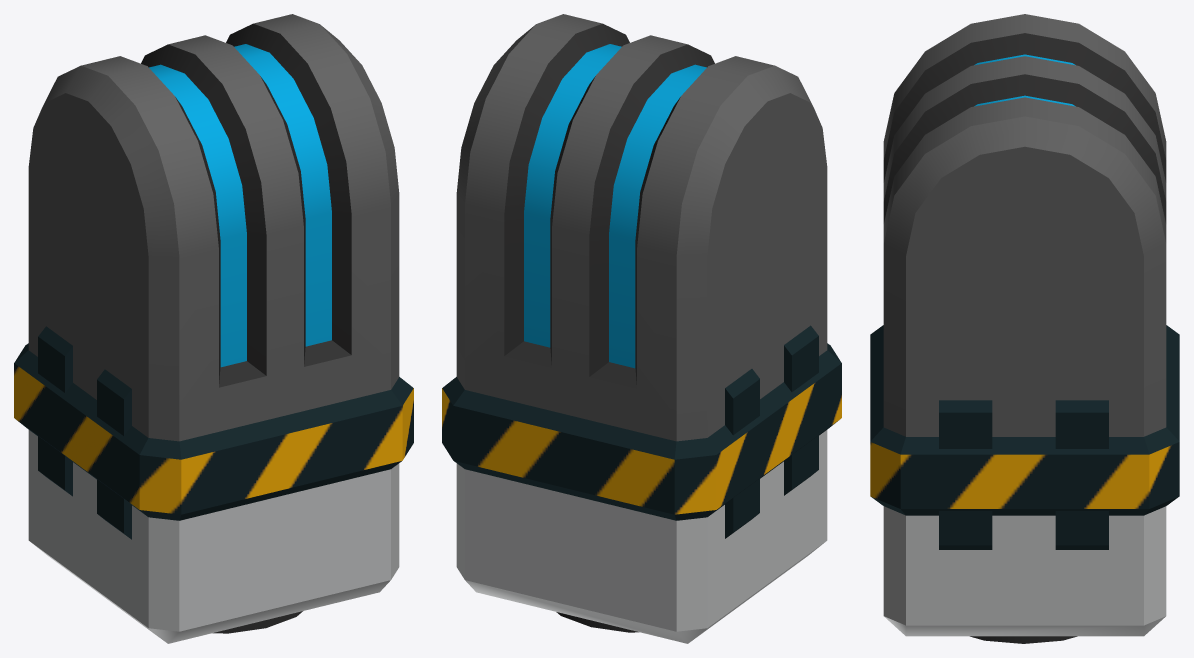
File: Turret_003_Part_02.fbx
3 views of the same model, side by side, from view 1: azimuth 30°, elevation 25°; view 2: azimuth 150°, elevation 25°; view 3: azimuth 270°, elevation 25° (orthographic).
Visible parts, largest first — view 1: Turret_003_Part_02; view 2: Turret_003_Part_02; view 3: Turret_003_Part_02.
Boxes of the visible parts, <box> form: Turret_003_Part_02: <box>14,14,413,643</box>; Turret_003_Part_02: <box>442,14,841,643</box>; Turret_003_Part_02: <box>870,14,1179,643</box>.
Size of the model in its own units: 69.93 by 68.94 by 132.
